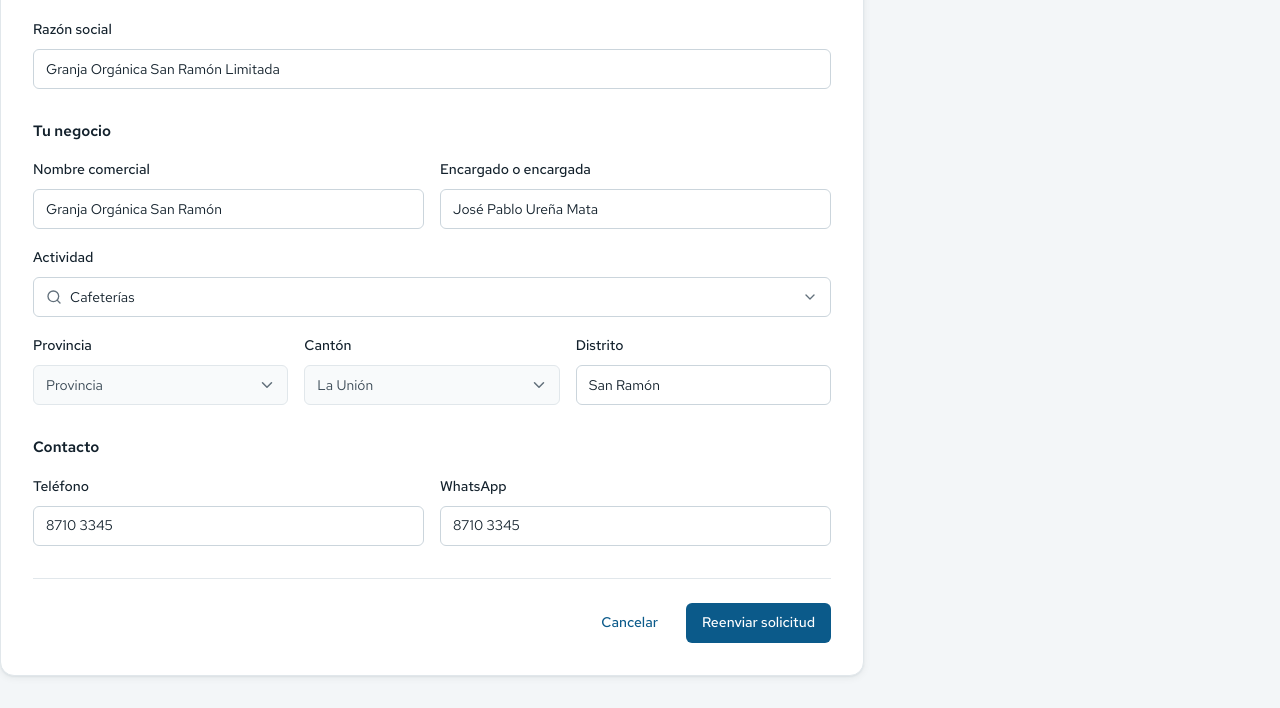
the correction screen › sends the correction and says the application is under review again
The image size is (1280, 708).
(page scrolled)
Replace the text in the field labelled "Distrito" with "San Rafael". click: (703, 385)
box: [576,365,831,405]
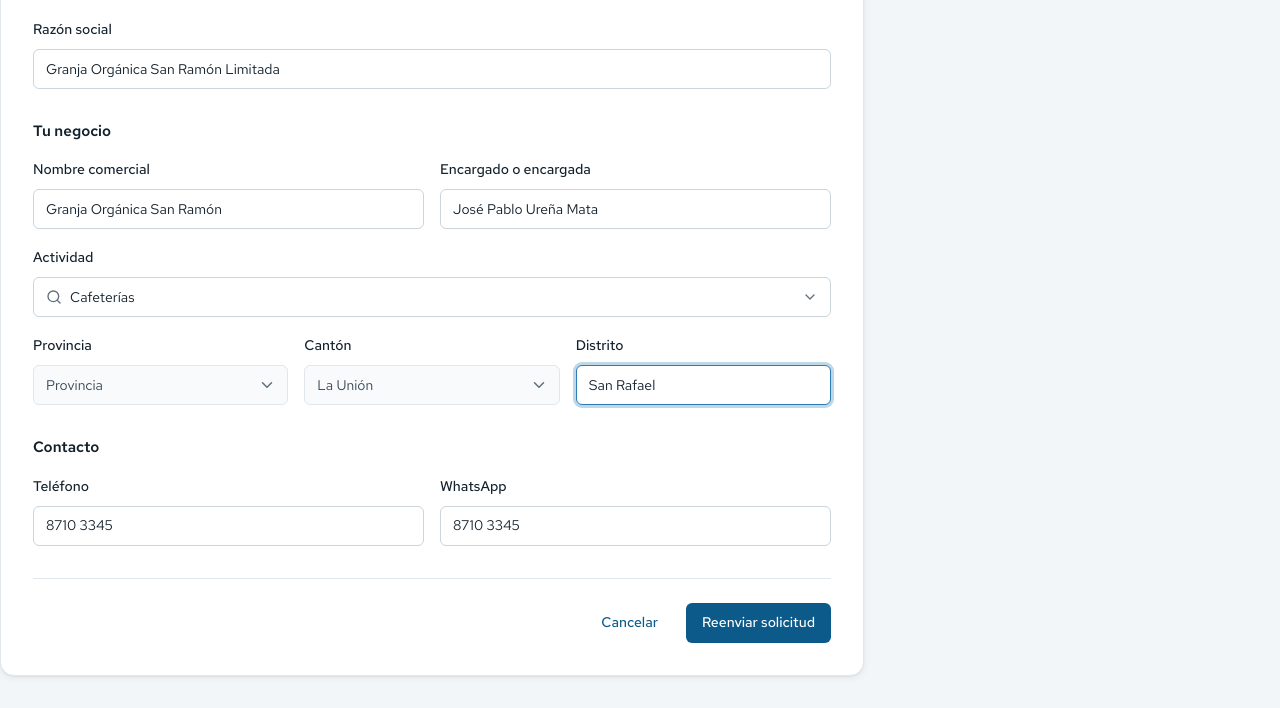
Click the button "Reenviar solicitud". click: click(758, 623)
box: [686,603,831,643]
(page scrolled)
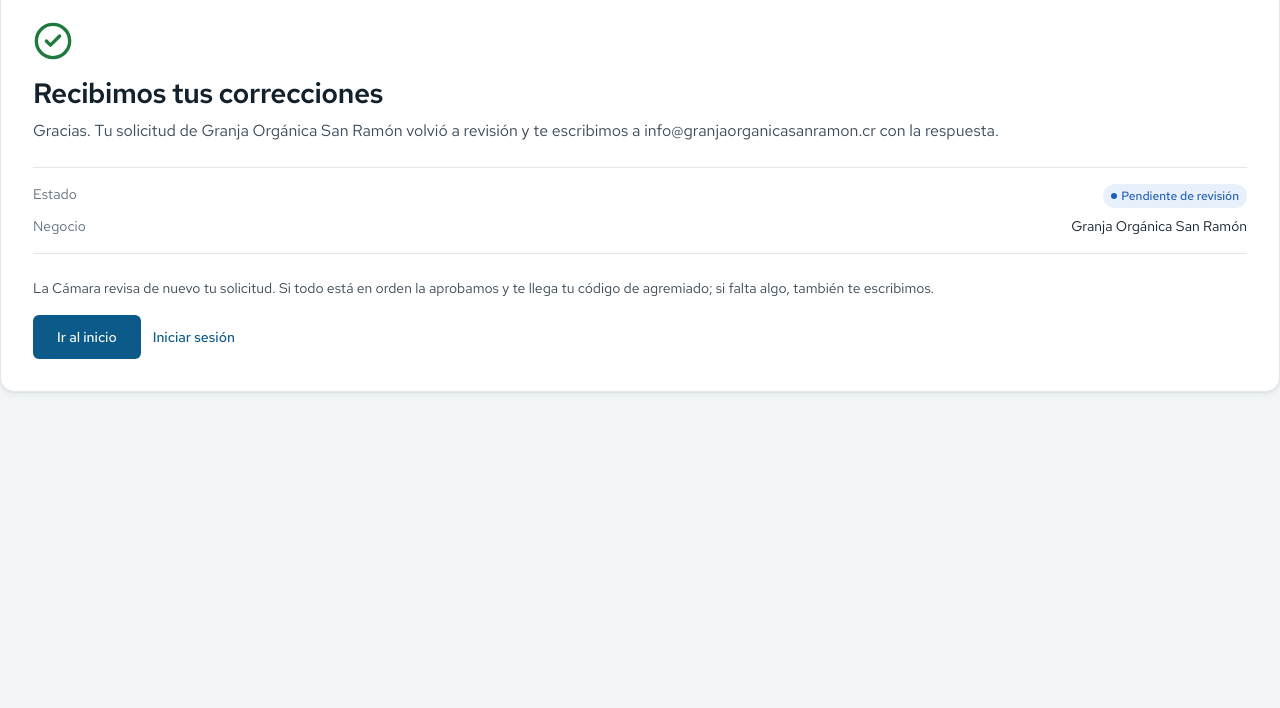
Expected: the heading "Recibimos tus correcciones" is shown, [33,74,383,112]
